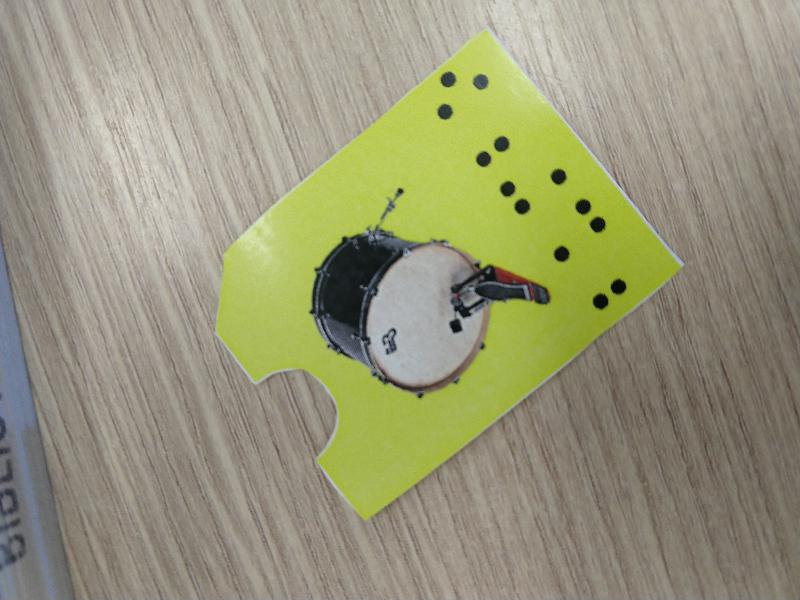bumbo: (214, 22, 683, 533)
